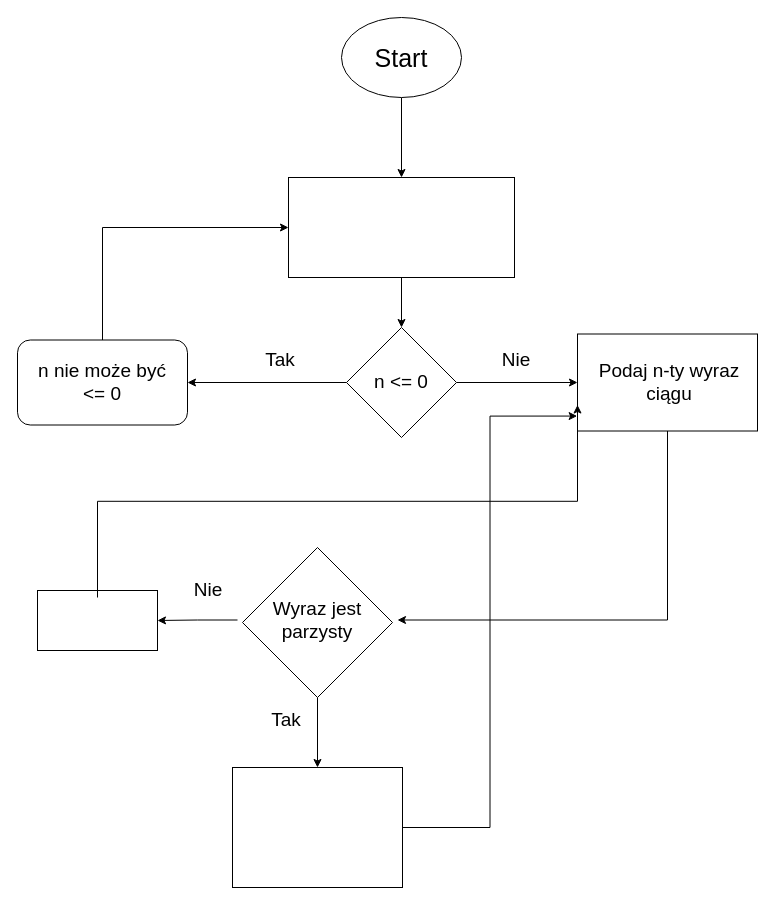
Some shapes in this 779 by 905 pixel diagram are drawn without their labels. The shapes that lost their labels are listed below. From the top down, each one's centre as x and y in pixels, then its label:
point 401,227: Podaj liczbę wyrazów ciągu (n)
point 97,620: Pomiń
point 317,827: Zwiększ licznik o 1
